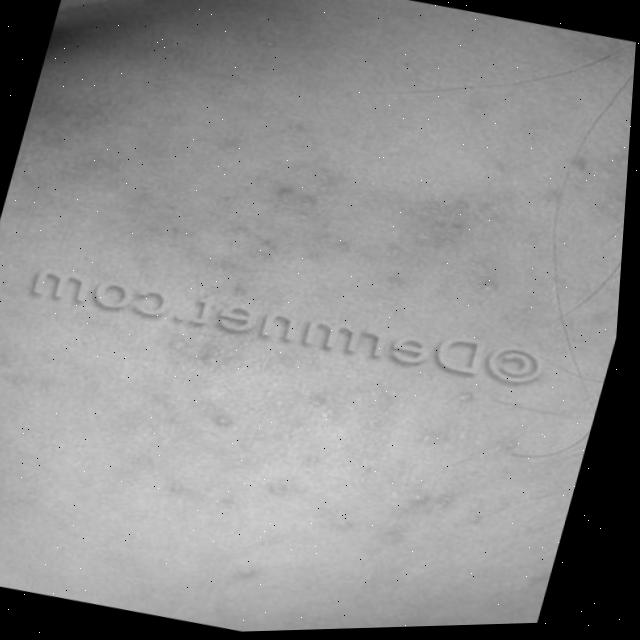Eczema: (0, 84, 505, 537)
